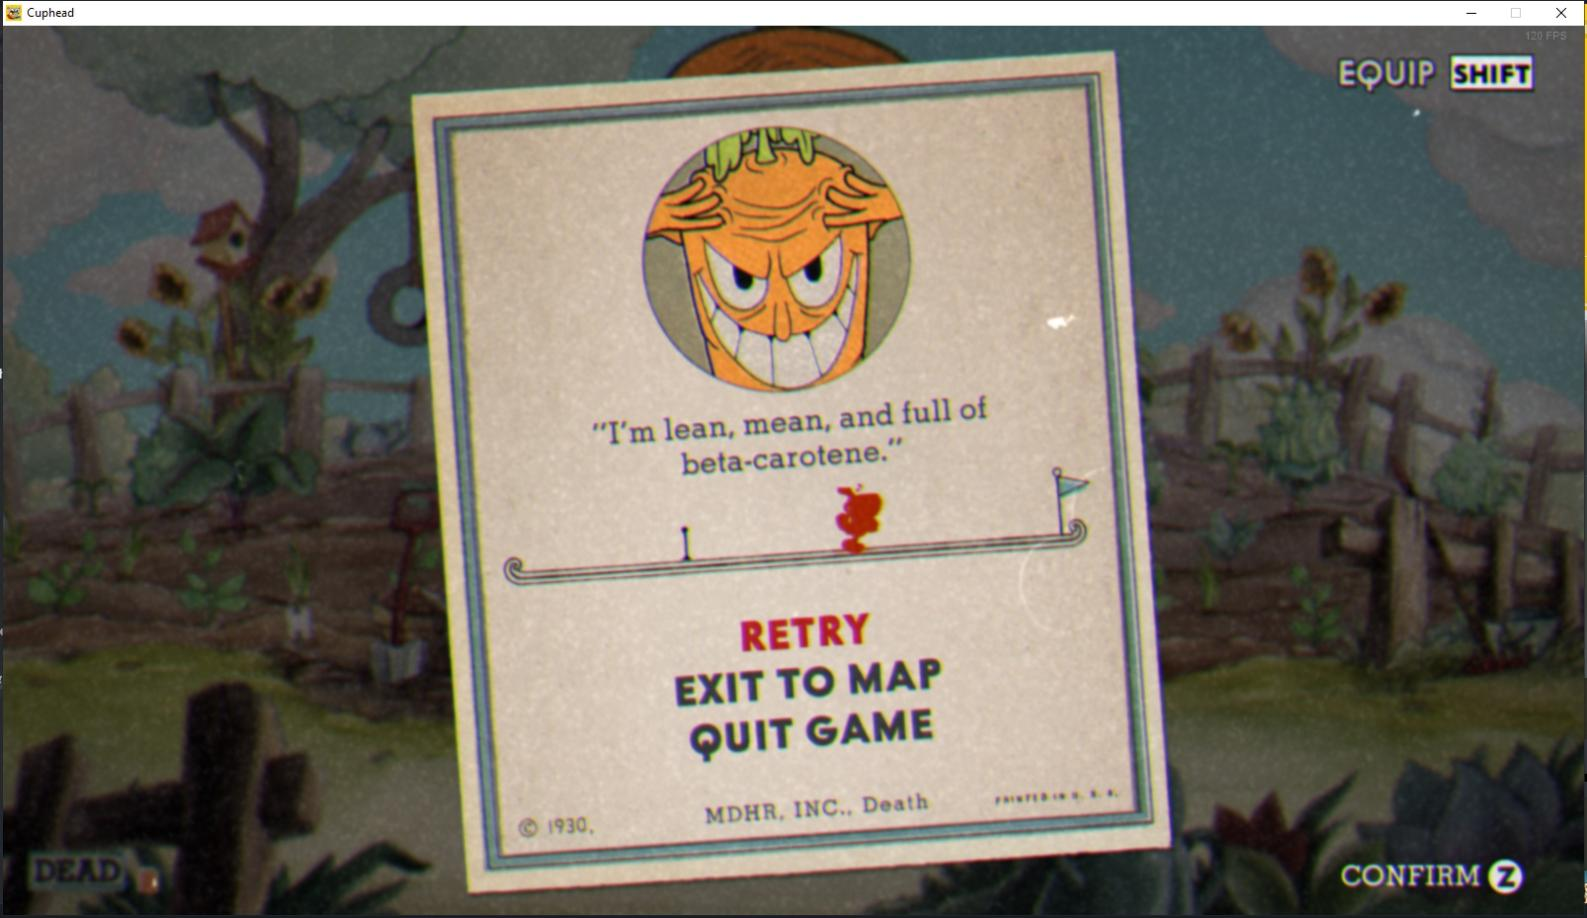carrot_icon: (628, 113, 928, 401)
player_progress: (826, 477, 889, 558)
